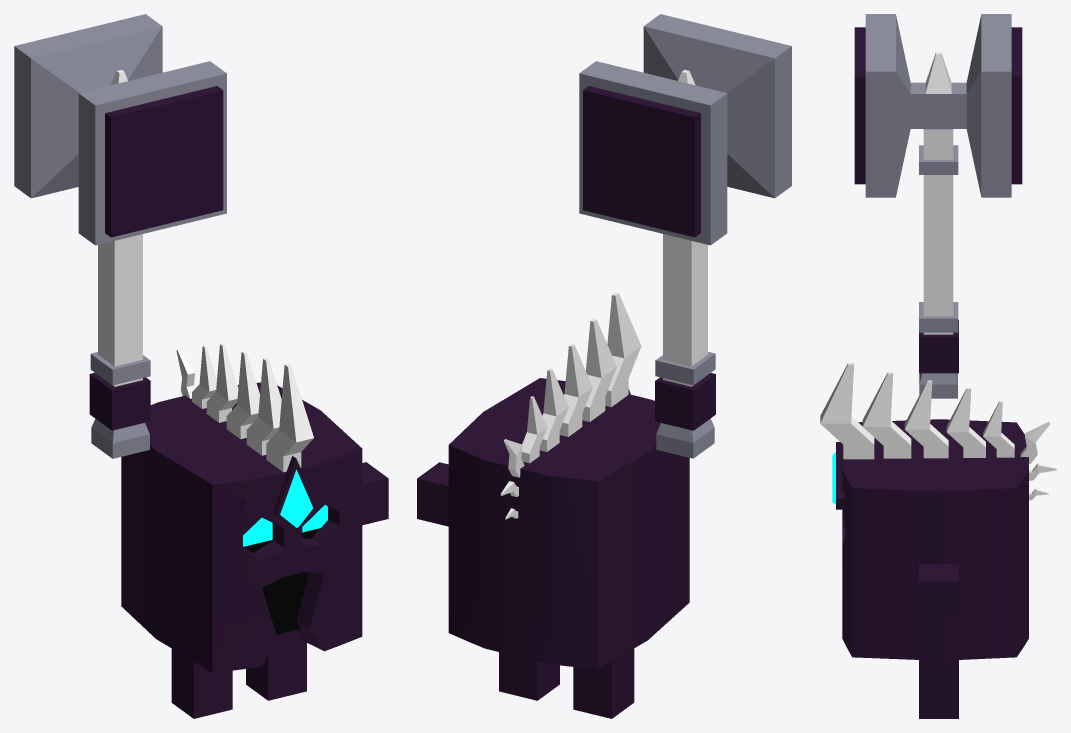
The model's file is Front3.fbx.
3 views of the same model, side by side, from view 1: azimuth 30°, elevation 25°; view 2: azimuth 150°, elevation 25°; view 3: azimuth 270°, elevation 25° (orthographic). The views are drawn at different scales.
Parts seen in each view (by area): view 1: Cube.318, Cube.349, Cube.316, Cube.317, Main Droite.012, Cube.323, Cube.321, Cube.324, Corp.012, Cube.325, Main Gauche.012, Cube.326 (+2 smaller); view 2: Cube.318, Cube.349, Cube.316, Main Droite.012, Cube.323, Cube.317, Cube.324, Main Gauche.012, Cube.325, Cube.326, Cube.327; view 3: Cube.318, Cube.349, Cube.323, Cube.317, Main Gauche.012, Cube.324, Cube.325, Main Droite.012, Cube.326, Cube.327, Cube.321, Cube.328.
Boxes of the visible parts, bbox=[...] form: Cube.318: bbox=[121, 382, 362, 672]; Cube.349: bbox=[14, 14, 226, 458]; Cube.316: bbox=[171, 649, 232, 718]; Cube.317: bbox=[246, 630, 306, 700]; Main Droite.012: bbox=[89, 372, 150, 430]; Cube.323: bbox=[266, 364, 313, 472]; Cube.321: bbox=[272, 456, 317, 533]; Cube.324: bbox=[246, 358, 281, 455]; Corp.012: bbox=[244, 517, 318, 634]; Cube.325: bbox=[226, 351, 259, 439]; Main Gauche.012: bbox=[362, 462, 388, 525]; Cube.326: bbox=[206, 343, 238, 422]; Cube.318: bbox=[448, 378, 689, 669]; Cube.349: bbox=[579, 14, 791, 458]; Cube.316: bbox=[573, 648, 634, 718]; Main Droite.012: bbox=[655, 373, 715, 430]; Cube.323: bbox=[605, 292, 641, 407]; Cube.317: bbox=[499, 652, 559, 700]; Cube.324: bbox=[582, 318, 616, 421]; Main Gauche.012: bbox=[417, 462, 448, 526]; Cube.325: bbox=[559, 344, 592, 436]; Cube.326: bbox=[539, 368, 568, 451]; Cube.327: bbox=[521, 396, 547, 463]; Cube.318: bbox=[842, 419, 1028, 660]; Cube.349: bbox=[854, 14, 1022, 398]; Cube.323: bbox=[820, 363, 874, 459]; Cube.317: bbox=[919, 660, 958, 718]; Main Gauche.012: bbox=[919, 564, 958, 617]; Cube.324: bbox=[862, 372, 911, 458]; Cube.325: bbox=[904, 380, 948, 458]; Main Droite.012: bbox=[919, 320, 958, 373]; Cube.326: bbox=[946, 388, 985, 457]; Cube.327: bbox=[983, 401, 1014, 457]; Cube.321: bbox=[832, 442, 843, 509]; Cube.328: bbox=[1020, 422, 1050, 463].
Bounding box in the file's own units: 434 × 856 × 306.
